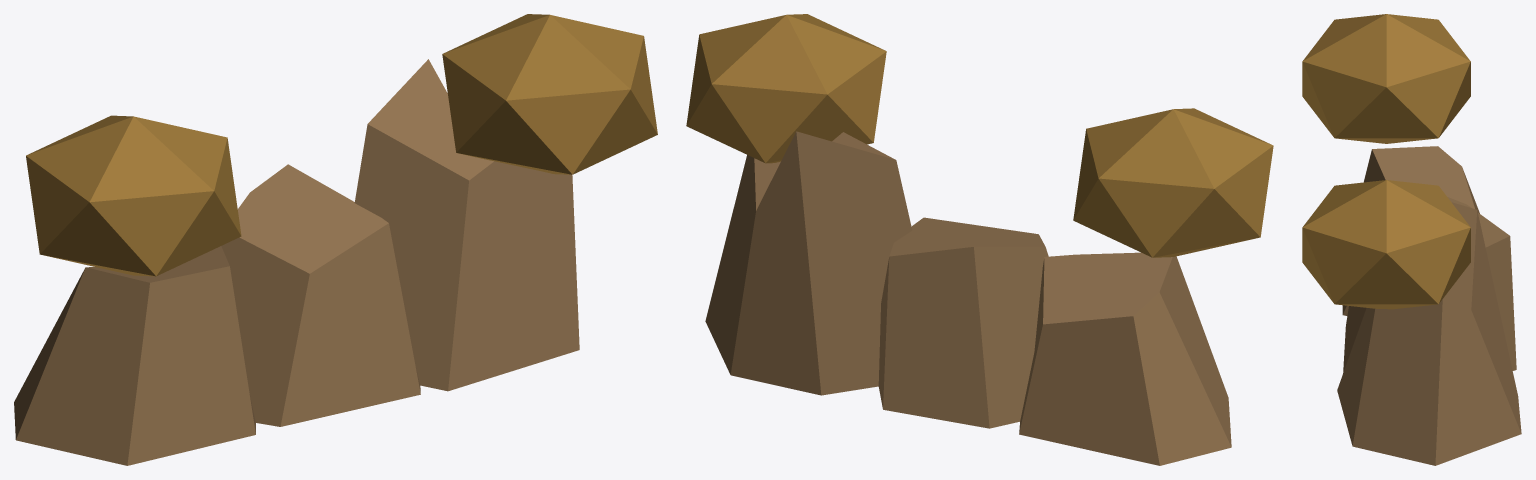
The model's file is map-boundaries-v5__farm_07.glb.
3 renders of one model, left to right at view 1: azimuth 30°, elevation 25°; view 2: azimuth 150°, elevation 25°; view 3: azimuth 270°, elevation 25°, orthographic. The views are drawn at different scales.
Visible parts, largest first — view 1: farm_07; view 2: farm_07; view 3: farm_07.
Part boxes in pixels (left/top/right/bottom): farm_07: left=14, top=14, right=657, bottom=465; farm_07: left=686, top=14, right=1273, bottom=465; farm_07: left=1302, top=14, right=1521, bottom=465.
Size of the model in its own units: 1.67 by 0.85 by 0.642.
